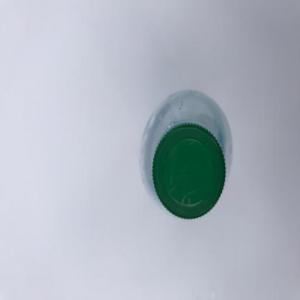Plastic-bottle: (140, 89, 236, 222)
